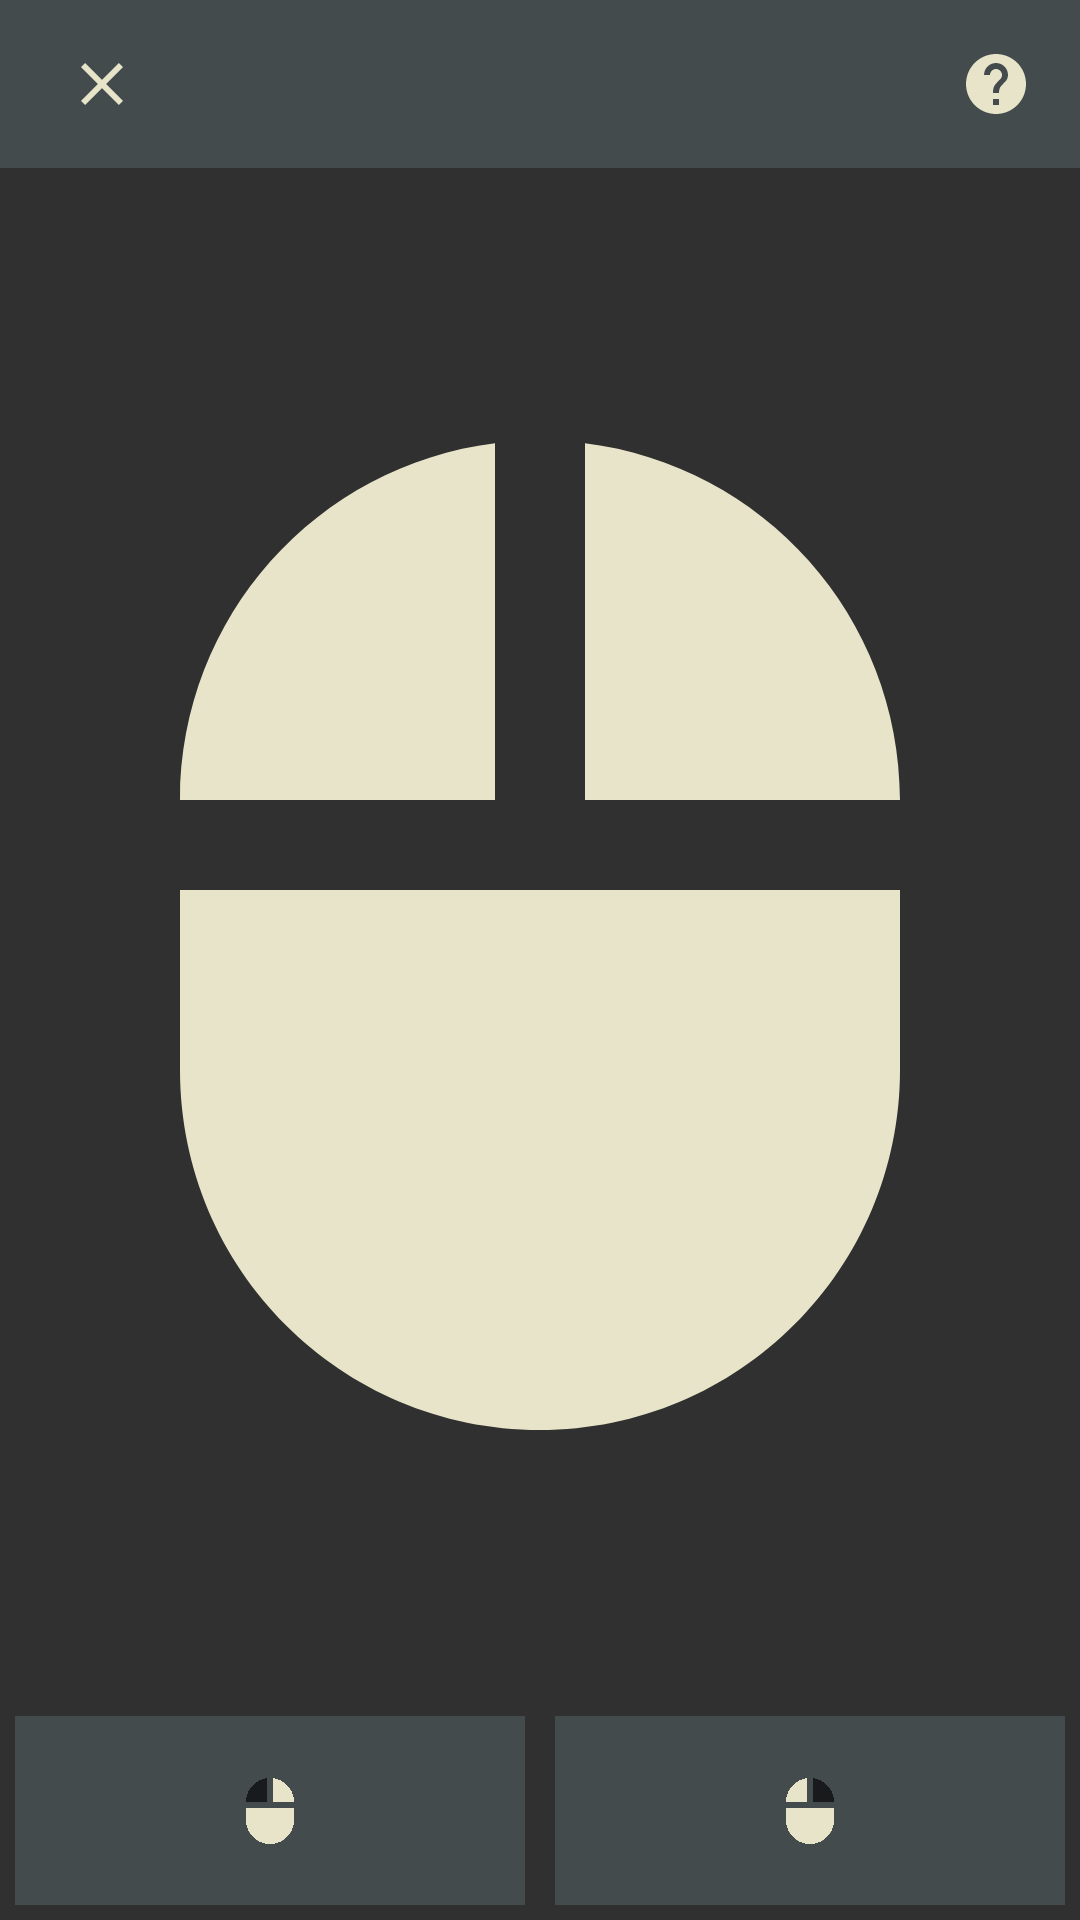

Icons on this 1080 x 1920 Android screen, each with its box as Rect(x1, y1, x2, y2):
help: Rect(966, 54, 1026, 114)
